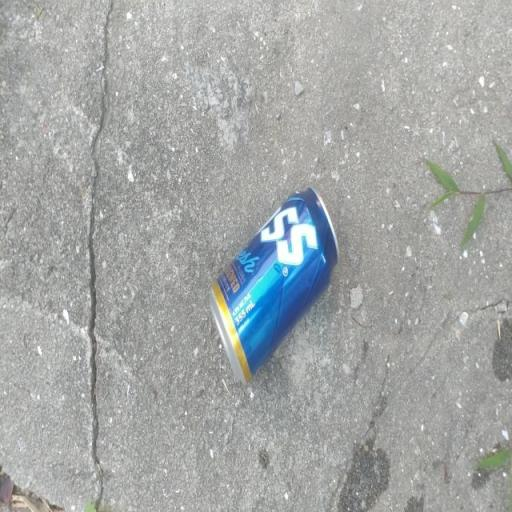metal: (200, 147, 360, 418)
